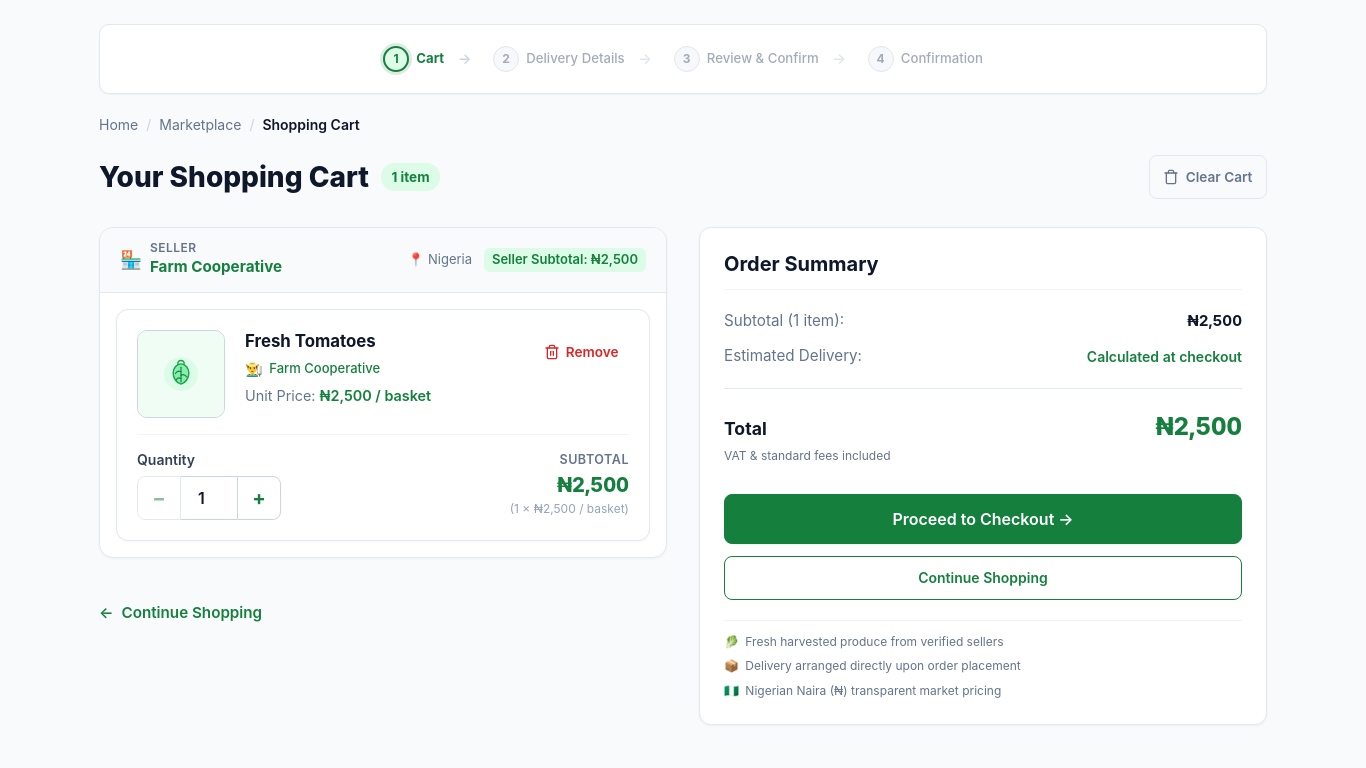
Empty Cart State (FE-057 / CART-05, TC-11, ERR-01) › 3. Dynamic Transition to Empty Cart State › transitions to empty cart state when removing the last item in a live cart session
This screenshot has width=1366, height=768.
Expected: the element with test id "cart-item-1" is shown, [116, 309, 650, 541]
Expected: the link with test id "cart-checkout-button" is shown, [724, 494, 1242, 544]
Note: Remove the item
Click the button with test id "cart-remove-button-1" at (581, 352), box [534, 330, 629, 374]
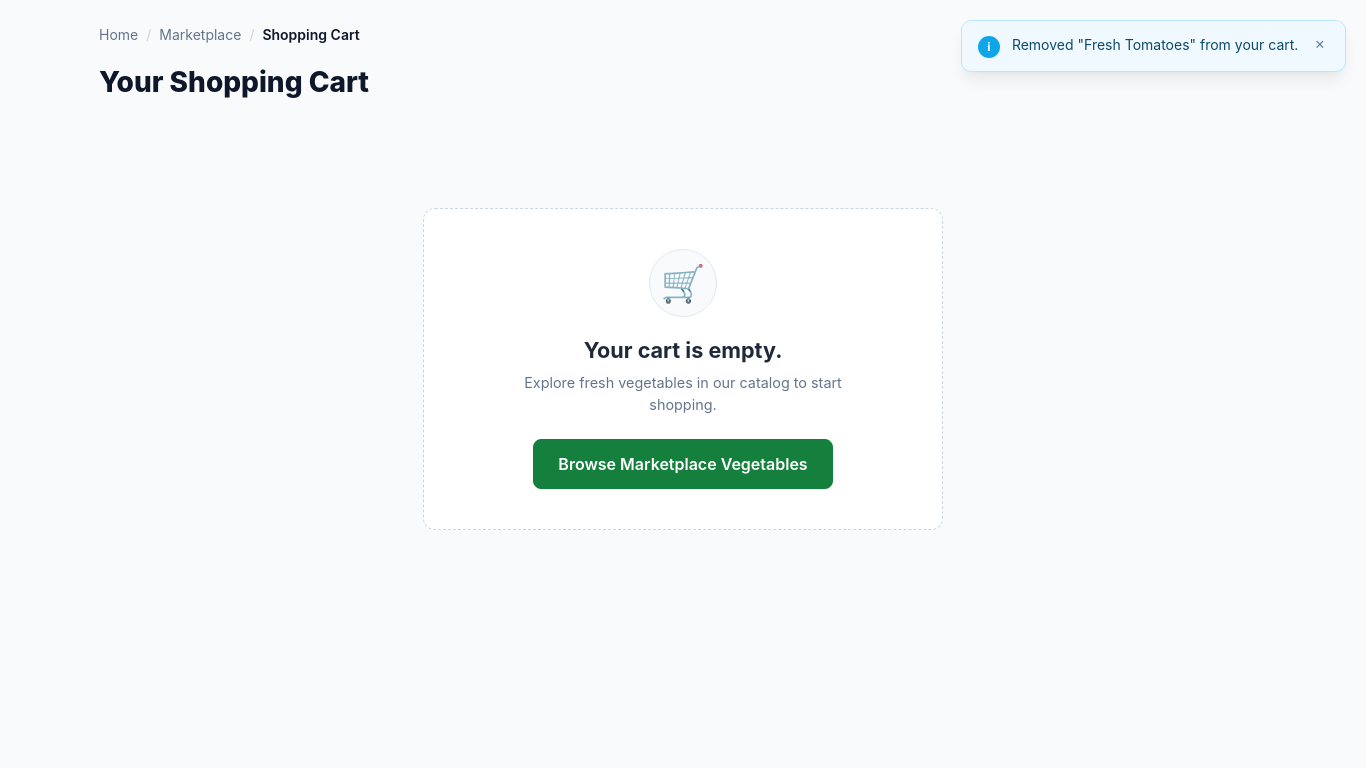
Expected: the heading "Your cart is empty." is shown, [584, 337, 782, 363]
Expected: the link with test id "cart-checkout-button" is gone
Expected: the element with test id "cart-item-1" is gone
